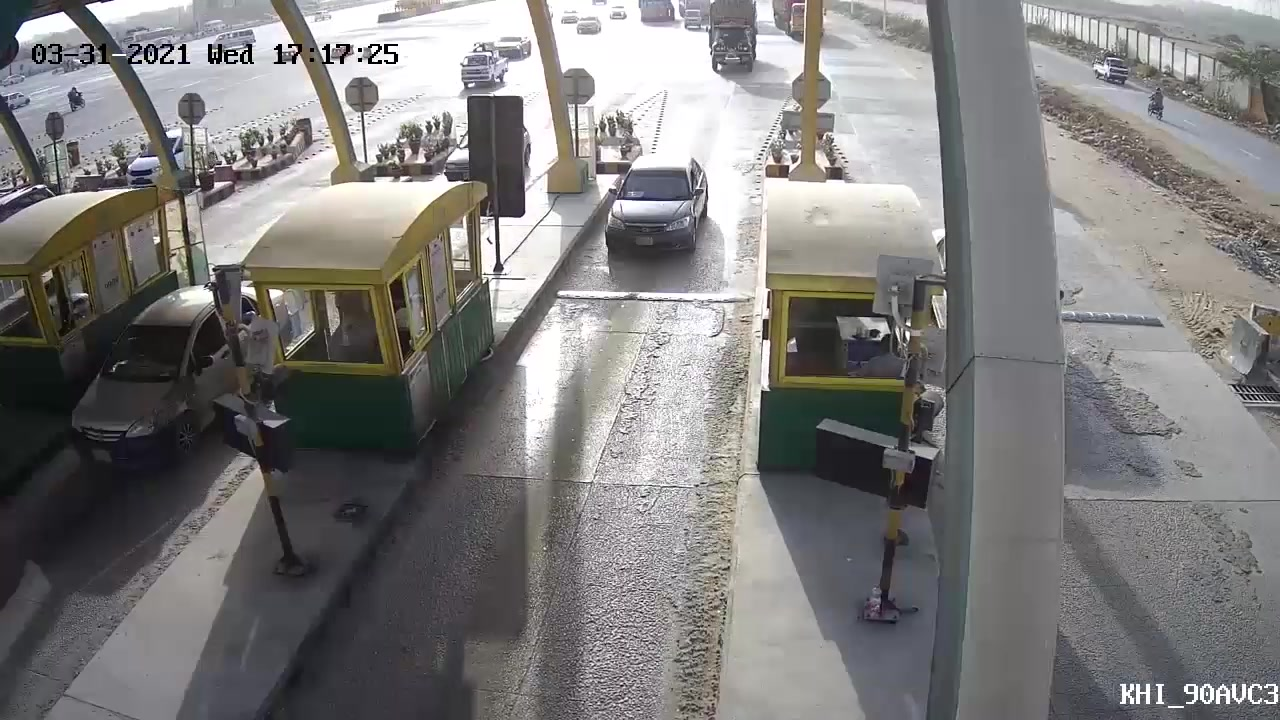F1: (593, 145, 731, 278)
